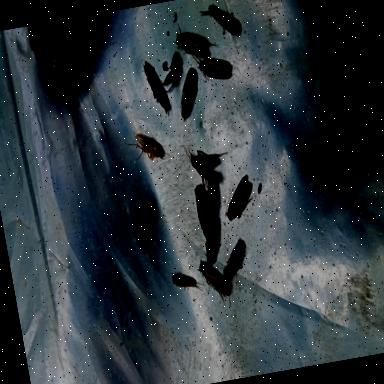pbw: (180, 137, 234, 190), (170, 16, 222, 65), (196, 254, 234, 313), (142, 58, 173, 122), (219, 174, 258, 224), (173, 66, 205, 124), (198, 1, 242, 42), (217, 238, 252, 286), (126, 131, 166, 166), (198, 221, 226, 269), (192, 182, 214, 242), (196, 54, 234, 86), (202, 182, 225, 228), (171, 270, 204, 296)
